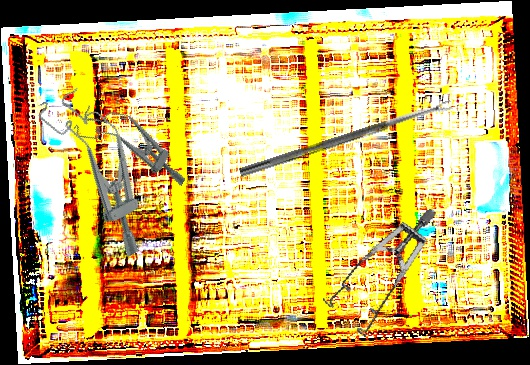Speculum: (32, 77, 174, 264), (306, 207, 466, 347), (71, 95, 199, 194)
Surgical Spoon: (238, 99, 454, 179)
